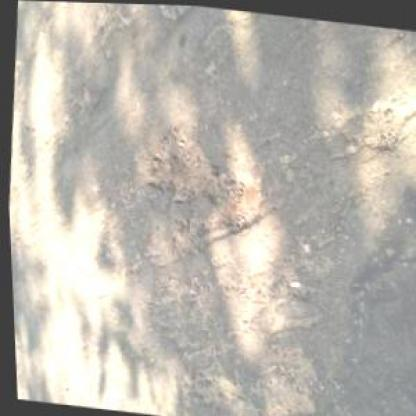pothole: (140, 118, 212, 206), (355, 62, 415, 158), (202, 160, 265, 232)
